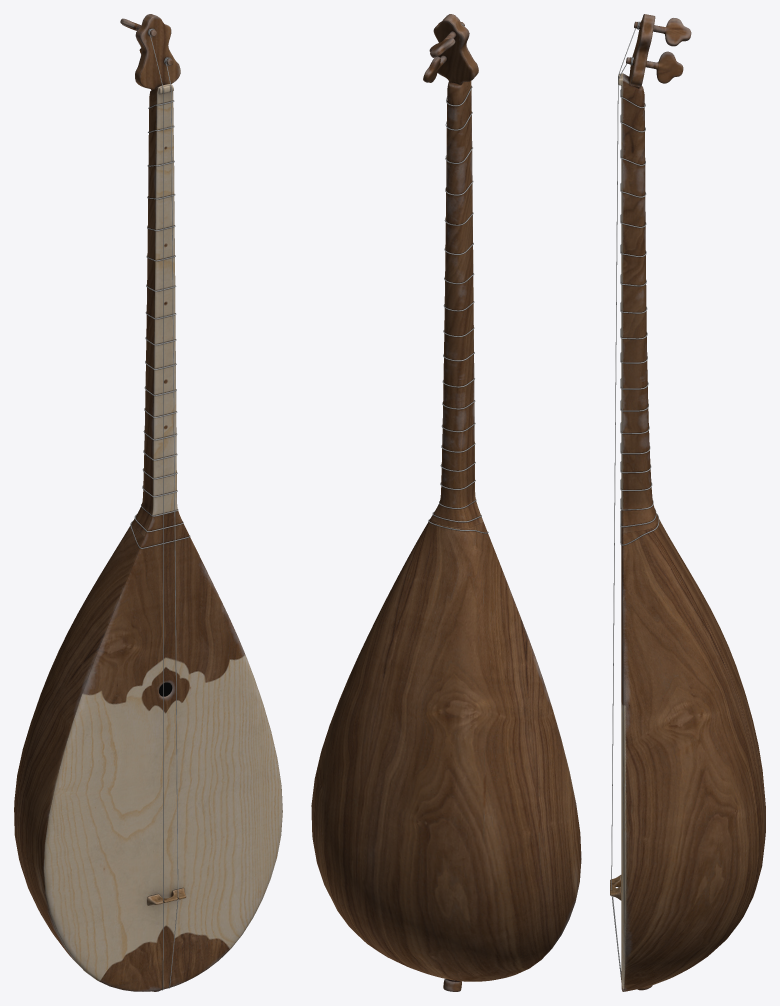
File: kazakh_dombra.glb
3 renders of one model, left to right at view 1: azimuth 30°, elevation 25°; view 2: azimuth 150°, elevation 25°; view 3: azimuth 270°, elevation 25°, orthographic.
Visible parts, largest first — view 1: Kazakh_Dombra; view 2: Kazakh_Dombra; view 3: Kazakh_Dombra.
Part boxes in pixels (<box>): Kazakh_Dombra: <box>14,14,282,991</box>; Kazakh_Dombra: <box>311,14,581,991</box>; Kazakh_Dombra: <box>610,14,765,991</box>.
Size of the model in its own units: 0.2451 by 0.9506 by 0.1379.
Materials: 1 (1 with a texture image).
